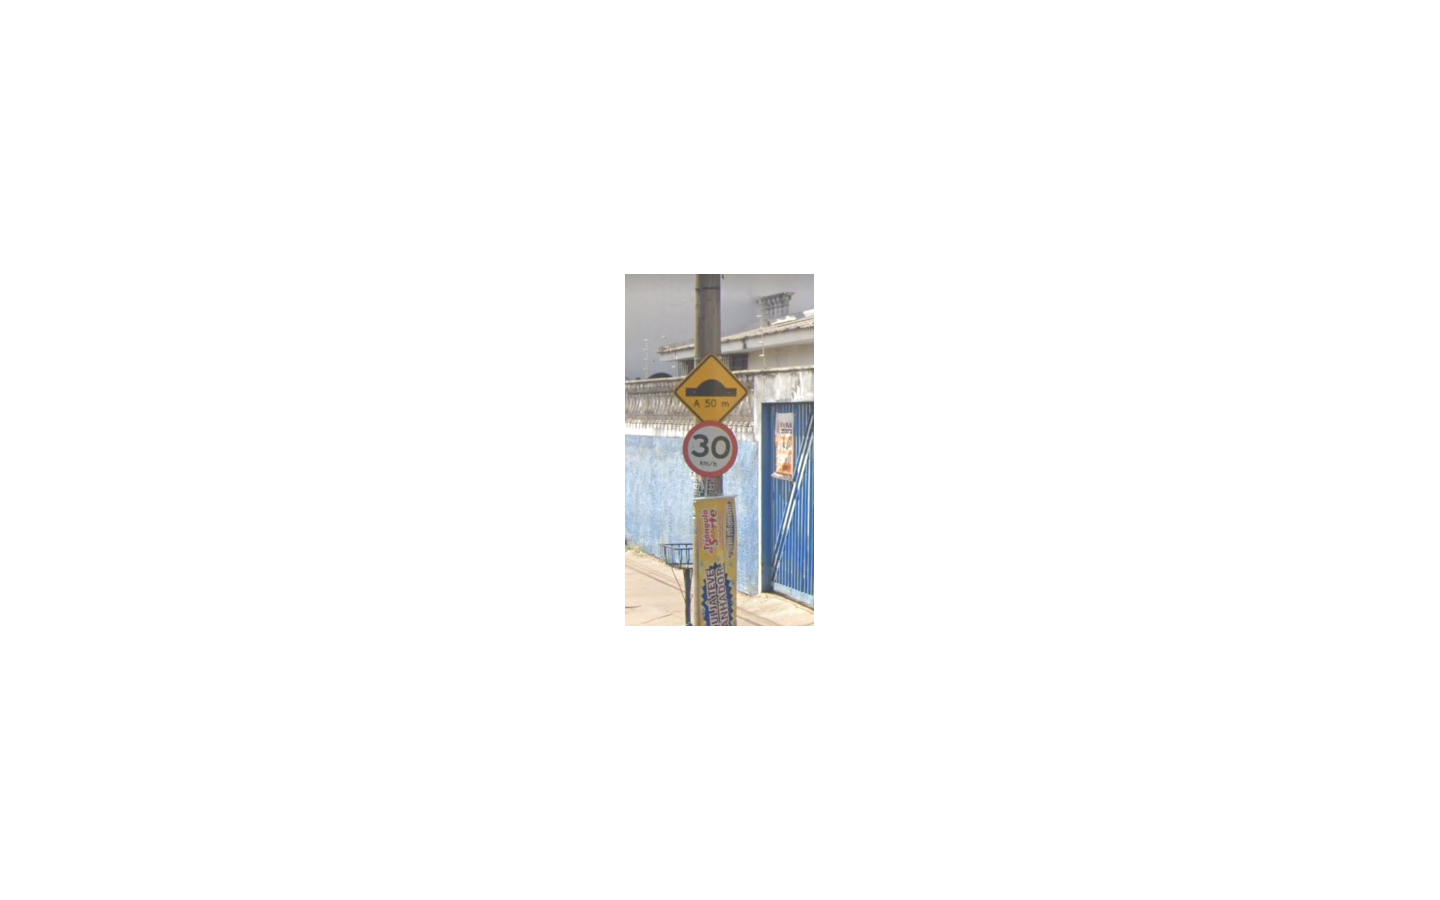l50m: (673, 353, 749, 422)
